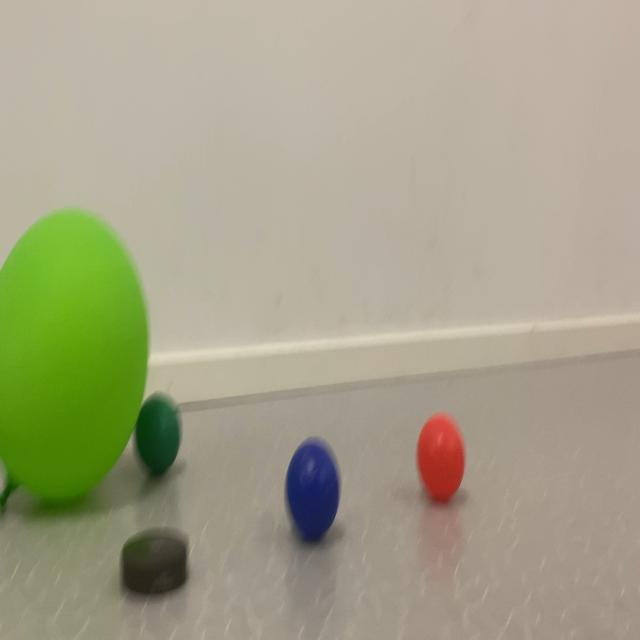7: (407, 364, 483, 569)
blue ball: (137, 364, 491, 548)
green ball: (266, 380, 352, 596)
red ball: (132, 374, 193, 499)
